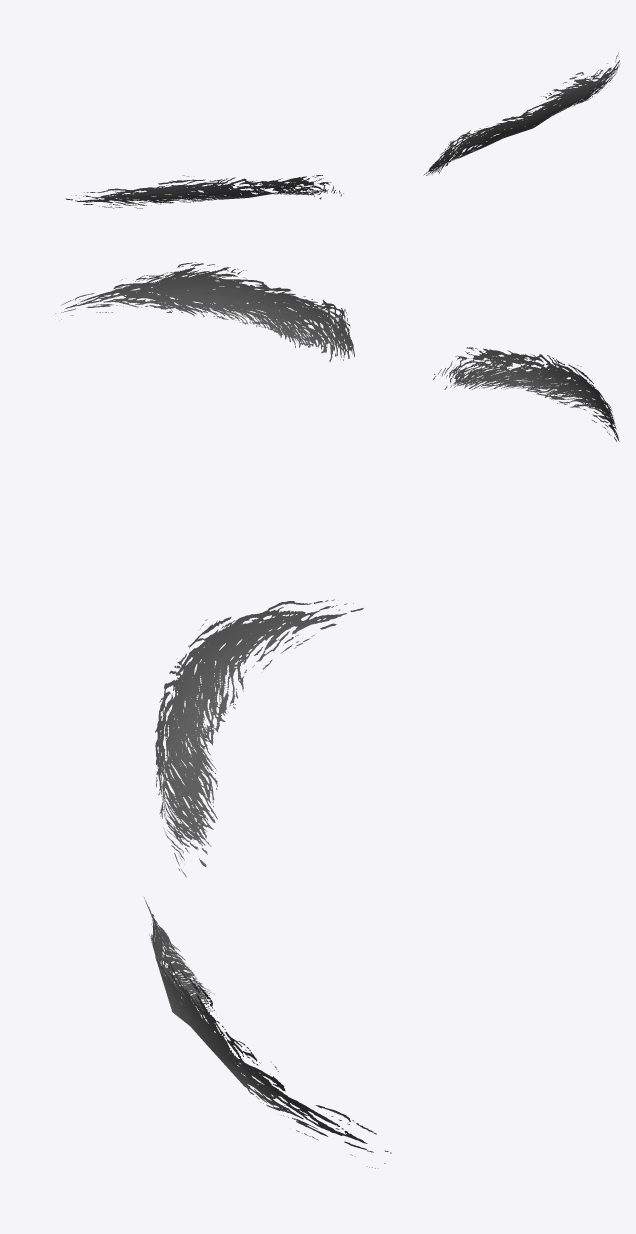
Rendered from brow012.glb.
The picture shows the model from 3 angles, top to bottom: view 1: azimuth 30°, elevation 25°; view 2: azimuth 150°, elevation 25°; view 3: azimuth 270°, elevation 25°; orthographic projection. The views are drawn at different scales.
Parts seen in each view (by area): view 1: editor_brow012; view 2: editor_brow012; view 3: editor_brow012.
Boxes of the visible parts, x1,y1,x2,y2 form: editor_brow012: (66,52,620,208); editor_brow012: (55,262,619,441); editor_brow012: (144,599,391,1168).
Size of the model in its own units: 0.1177 by 0.0169 by 0.0304.
1 material, 1 textured.
